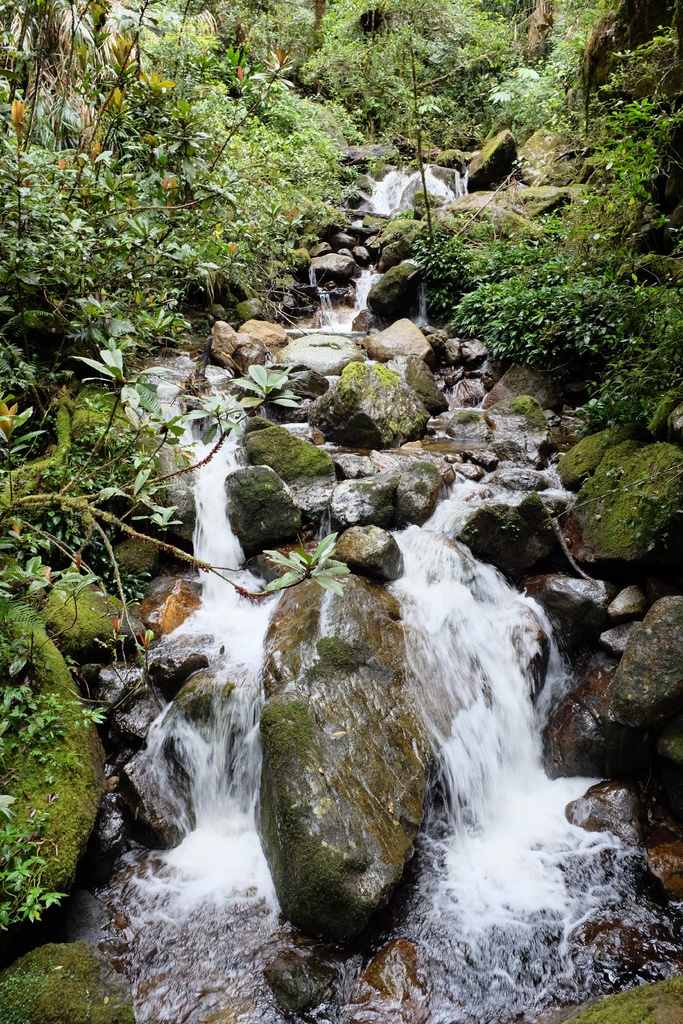Tree: (0, 0, 683, 356)
